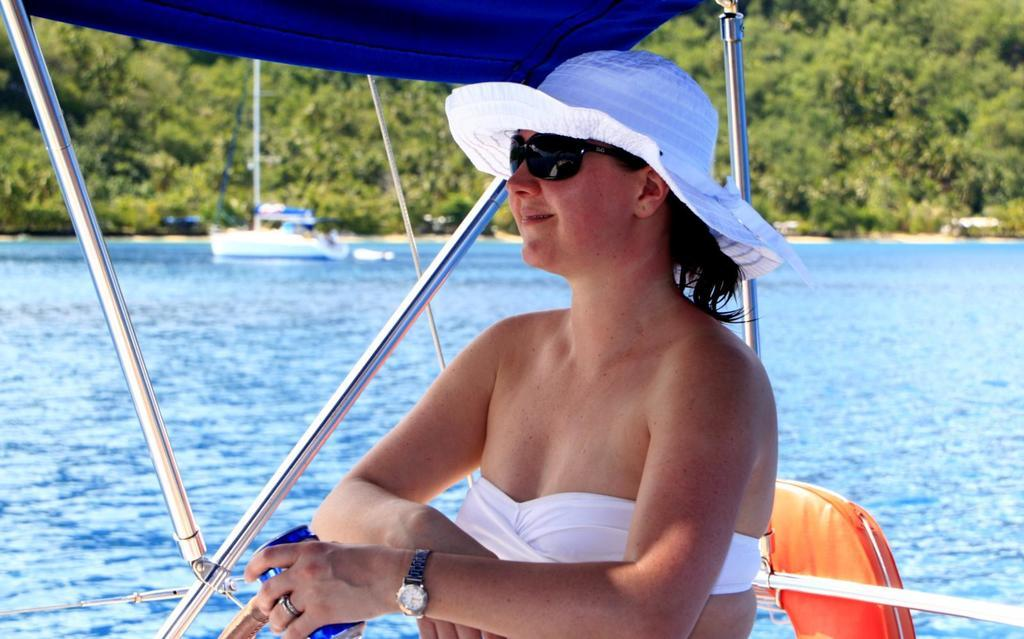Hat: (442, 47, 814, 290)
